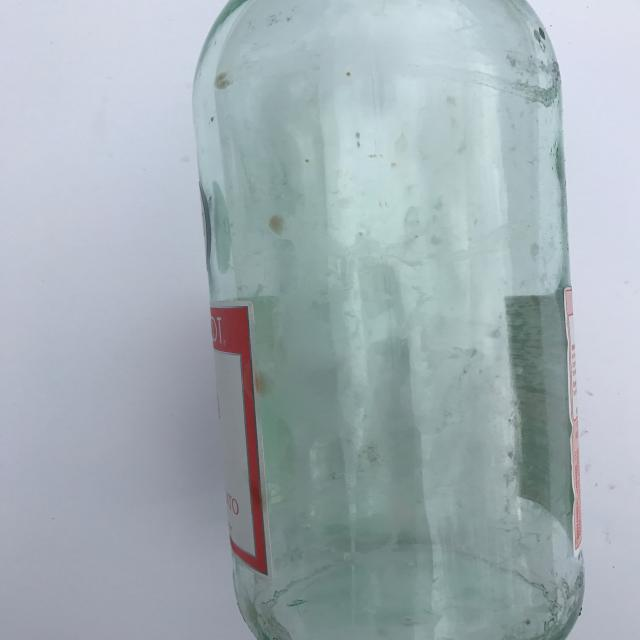glass: (192, 0, 586, 640)
